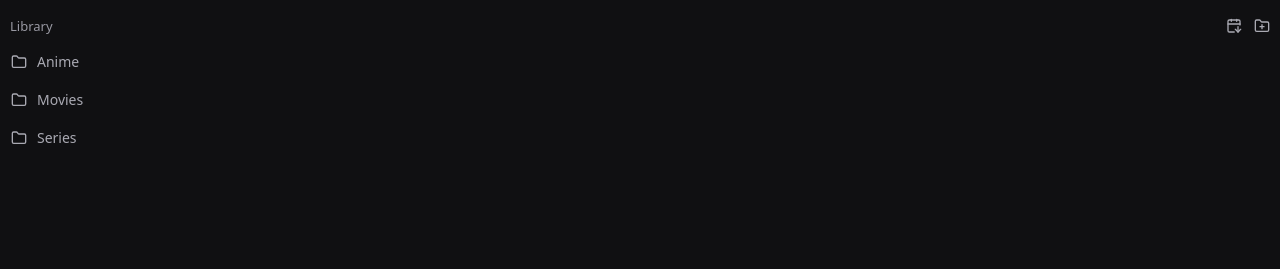
Test: library folder sort menu › shows the saved mode newestFirst as Date added, newest first
This screenshot has width=1280, height=269.
Click the button named "Sort folders: Date added, newest first" at (1234, 26), box [1220,12,1248,40]
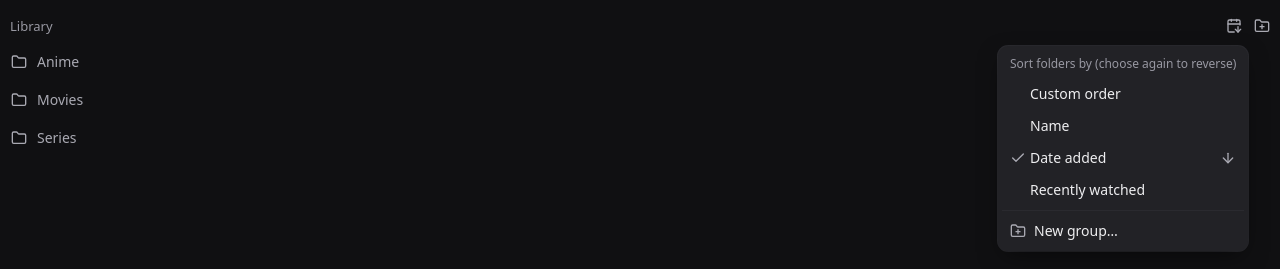
Expected: the menu shows "Sort folders by (choose again to reverse)", [1010,55,1236,72]
